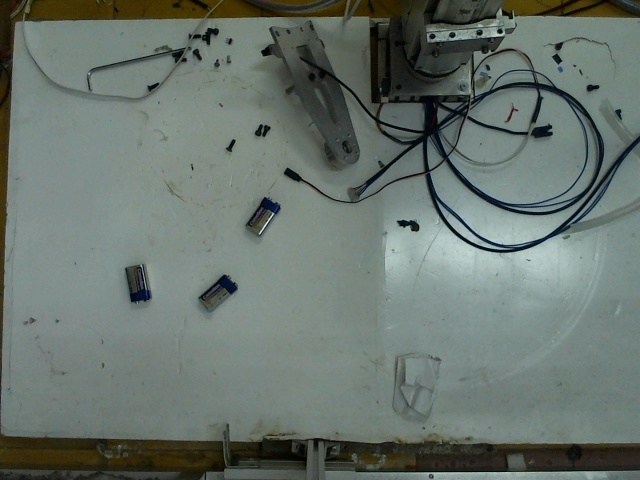battery: (242, 194, 277, 235), (194, 274, 237, 307), (120, 261, 153, 302)
